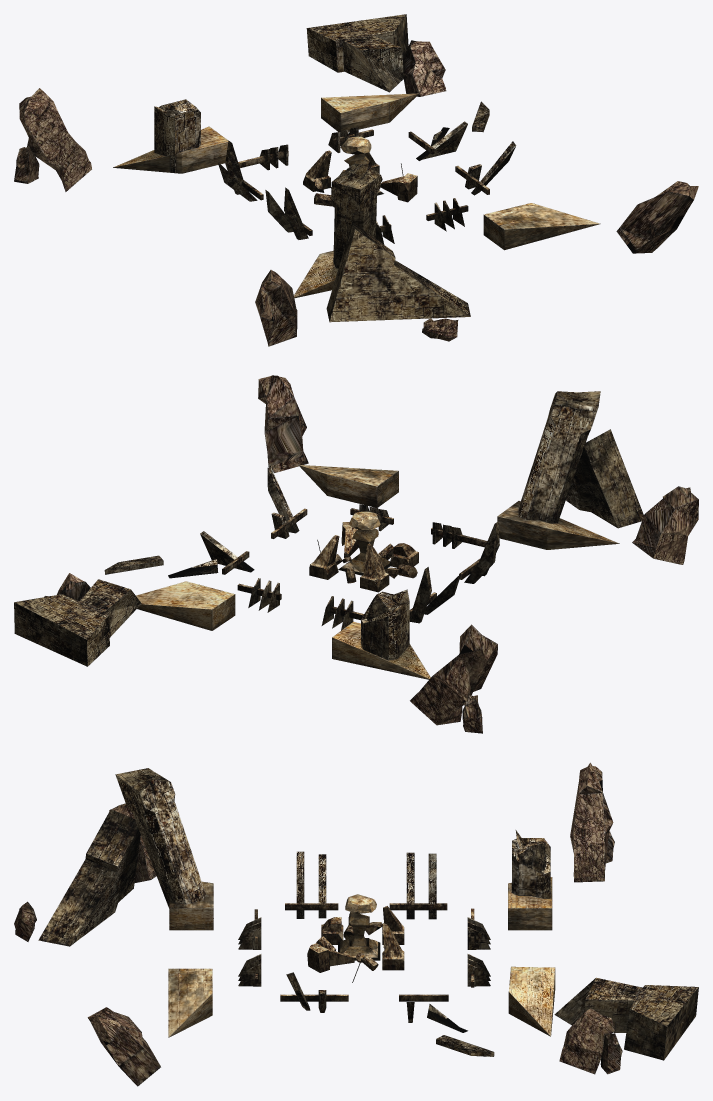
Rendered from ruined.FBX.
The picture shows the model from 3 angles, top to bottom: view 1: azimuth 30°, elevation 25°; view 2: azimuth 150°, elevation 25°; view 3: azimuth 270°, elevation 25°; orthographic projection. The views are drawn at different scales.
Parts seen in each view (by area): view 1: 2, 1, 6, 3, 5; view 2: 2, 1, 6, 3, 5; view 3: 2, 1, 6, 3, 5.
Boxes of the visible parts, left/top/right/bottom form: 2: left=154, top=14, right=516, bottom=322; 1: left=14, top=40, right=698, bottom=346; 6: left=113, top=93, right=600, bottom=298; 3: left=238, top=129, right=489, bottom=235; 5: left=330, top=136, right=383, bottom=195; 2: left=14, top=391, right=643, bottom=666; 1: left=44, top=375, right=698, bottom=733; 6: left=136, top=464, right=619, bottom=679; 3: left=222, top=508, right=487, bottom=620; 5: left=338, top=511, right=391, bottom=575; 2: left=38, top=768, right=698, bottom=1060; 1: left=14, top=762, right=622, bottom=1086; 6: left=168, top=877, right=555, bottom=1037; 3: left=254, top=903, right=474, bottom=1001; 5: left=338, top=894, right=380, bottom=960.
Size of the model in its own units: 1547 by 495 by 1900.
Materials: 5 (5 with a texture image).
